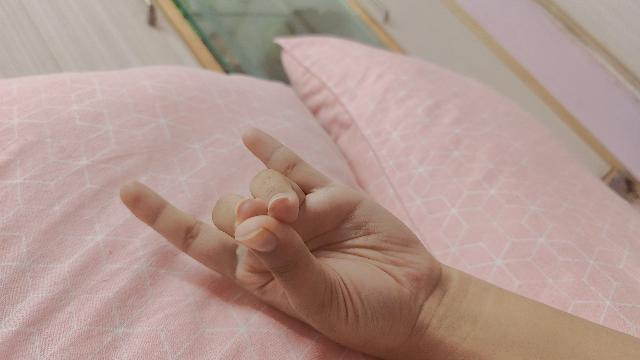sinhamukh: (119, 131, 640, 360)
